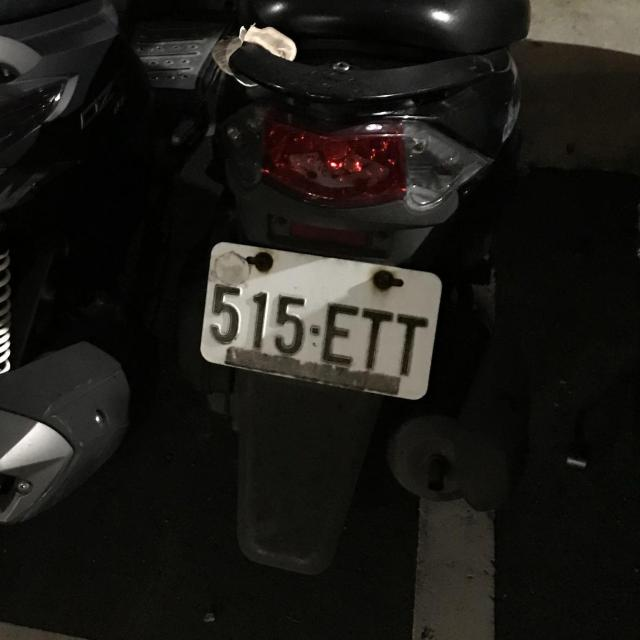W: (186, 234, 453, 408)
